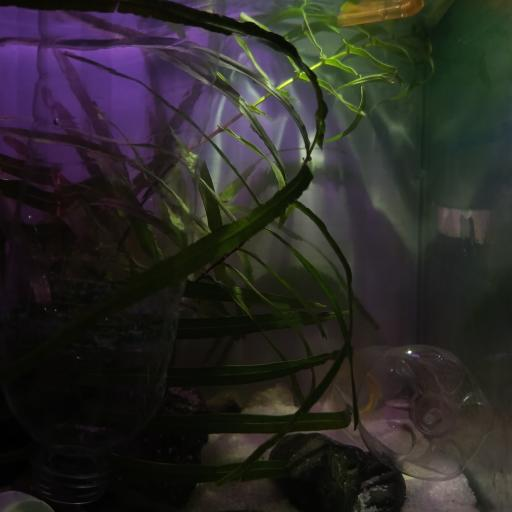plastic_bottle: (5, 0, 229, 512), (330, 340, 491, 483)
plastic_straw: (339, 0, 426, 28)
